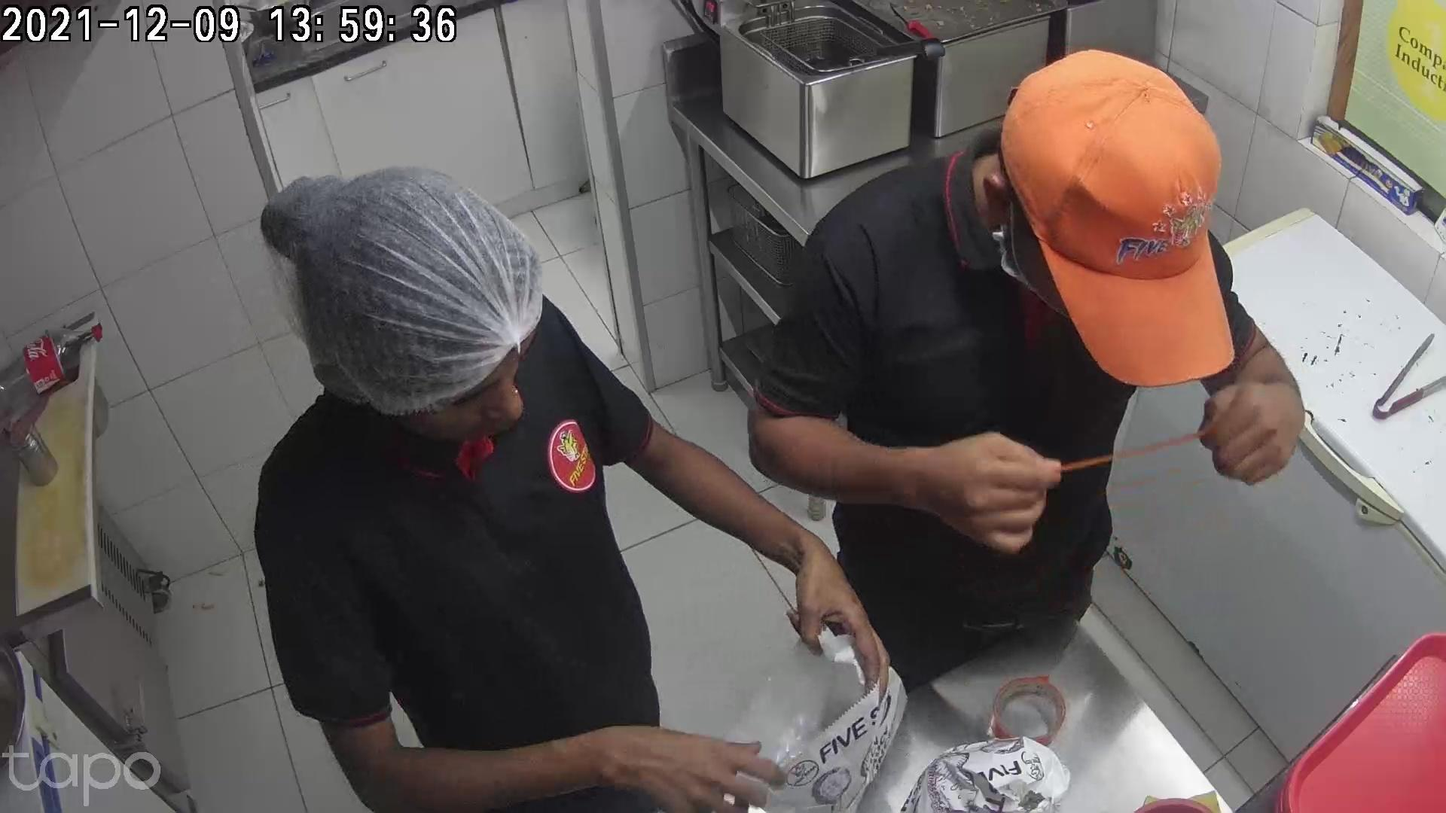no_gloves: (884, 439, 1056, 533)
